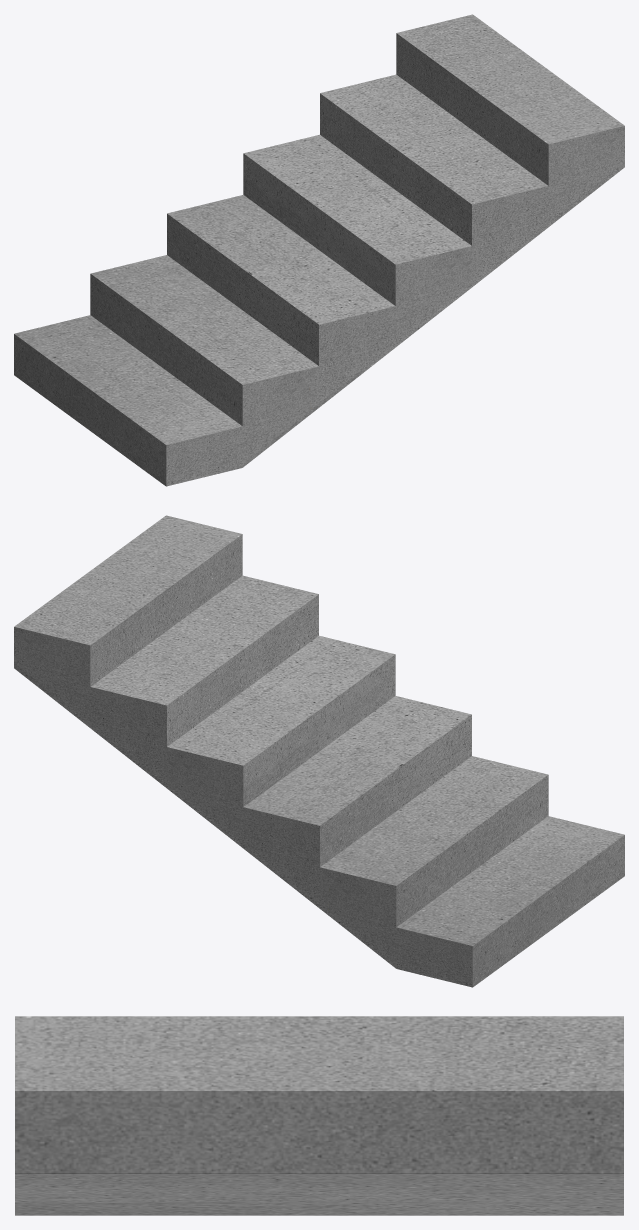
Rendered from Stair_small_01.FBX.
The picture shows the model from 3 angles, top to bottom: view 1: azimuth 30°, elevation 25°; view 2: azimuth 150°, elevation 25°; view 3: azimuth 270°, elevation 25°; orthographic projection. The views are drawn at different scales.
Visible parts, largest first — view 1: Stair_small_01; view 2: Stair_small_01; view 3: Stair_small_01.
Boxes of the visible parts, bbox=[...] form: Stair_small_01: bbox=[14, 14, 624, 486]; Stair_small_01: bbox=[14, 515, 624, 987]; Stair_small_01: bbox=[15, 1016, 623, 1215].
Size of the model in its own units: 2.79 by 1.44 by 1.6.
